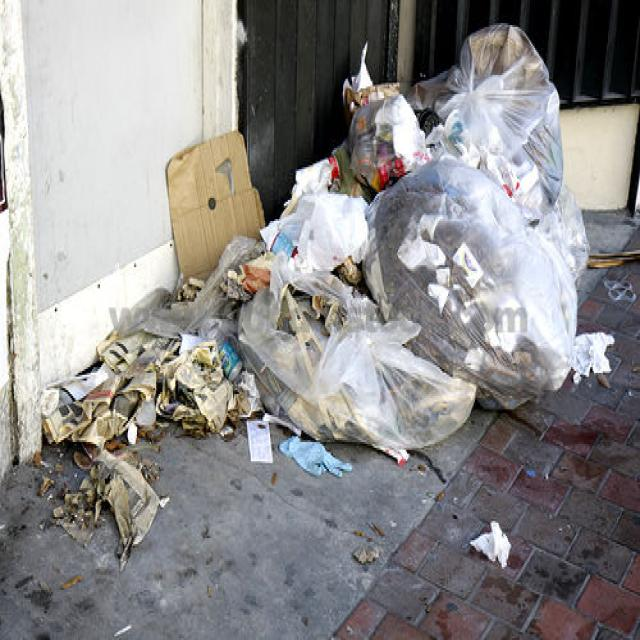garbage: (340, 27, 614, 465), (40, 255, 339, 458), (56, 454, 160, 570), (467, 513, 516, 584)
